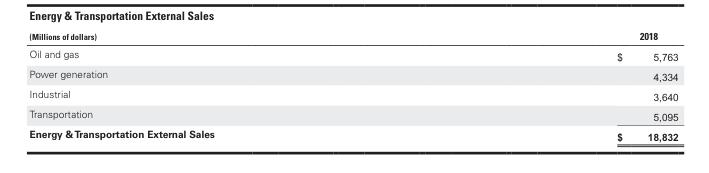table: (28, 29, 677, 141)
table column: (28, 29, 415, 141), (415, 29, 677, 141)
table row: (28, 44, 677, 64), (28, 64, 677, 84), (28, 84, 677, 104), (28, 104, 677, 124), (28, 124, 677, 141), (28, 29, 677, 44)
